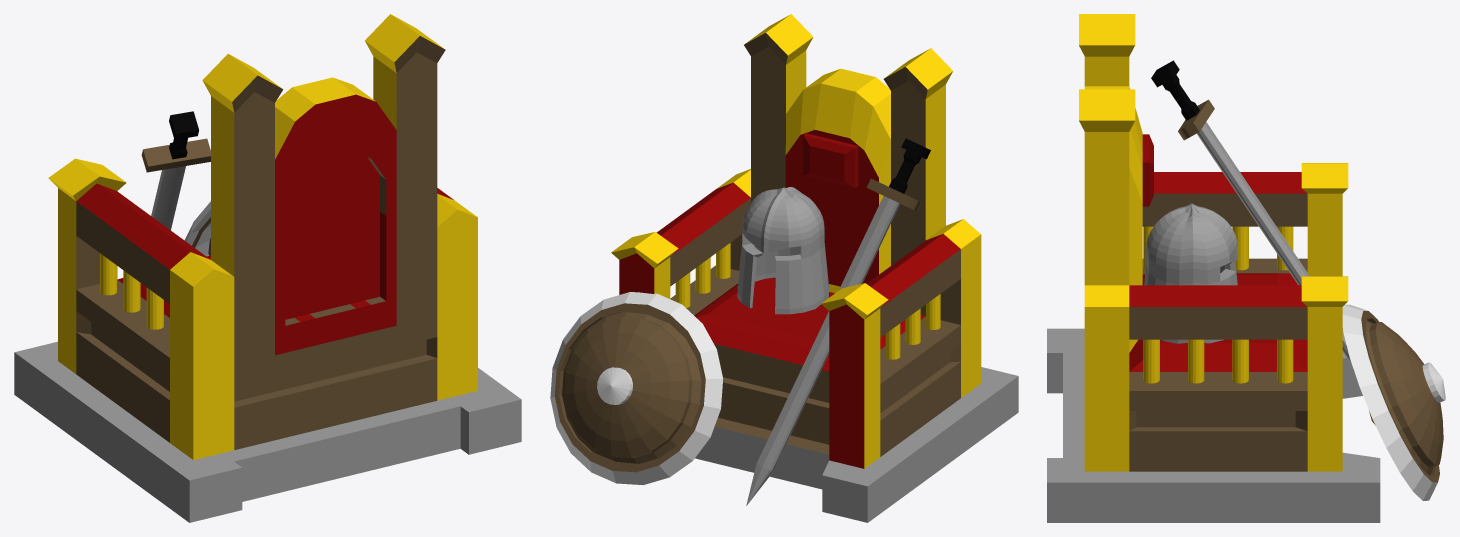
Rendered from Trone.fbx.
3 renders of one model, left to right at view 1: azimuth 30°, elevation 25°; view 2: azimuth 150°, elevation 25°; view 3: azimuth 270°, elevation 25°, orthographic. The views are drawn at different scales.
Visible parts, largest first — view 1: louis_jayden_throne_v2:Throne, louis_jayden_epee_v3:Épée, louis_jayden_bouclier_v2:Bouclier; view 2: louis_jayden_throne_v2:Throne, louis_jayden_bouclier_v2:Bouclier, louis_jayden_casque_v2:Casque, louis_jayden_epee_v3:Épée; view 3: louis_jayden_throne_v2:Throne, louis_jayden_bouclier_v2:Bouclier, louis_jayden_casque_v2:Casque, louis_jayden_epee_v3:Épée.
Boxes of the visible parts, x1=… form: louis_jayden_throne_v2:Throne: x1=14, y1=14, x2=521, y2=522; louis_jayden_epee_v3:Épée: x1=141, y1=111, x2=210, y2=230; louis_jayden_bouclier_v2:Bouclier: x1=184, y1=201, x2=210, y2=256; louis_jayden_throne_v2:Throne: x1=611, y1=14, x2=1018, y2=522; louis_jayden_bouclier_v2:Bouclier: x1=550, y1=292, x2=722, y2=485; louis_jayden_casque_v2:Casque: x1=737, y1=187, x2=828, y2=314; louis_jayden_epee_v3:Épée: x1=746, y1=138, x2=930, y2=505; louis_jayden_throne_v2:Throne: x1=1047, y1=14, x2=1380, y2=522; louis_jayden_bouclier_v2:Bouclier: x1=1342, y1=304, x2=1445, y2=500; louis_jayden_casque_v2:Casque: x1=1144, y1=203, x2=1237, y2=343; louis_jayden_epee_v3:Épée: x1=1151, y1=60, x2=1352, y2=365.
Size of the model in its own units: 10.37 by 11.38 by 10.38.
